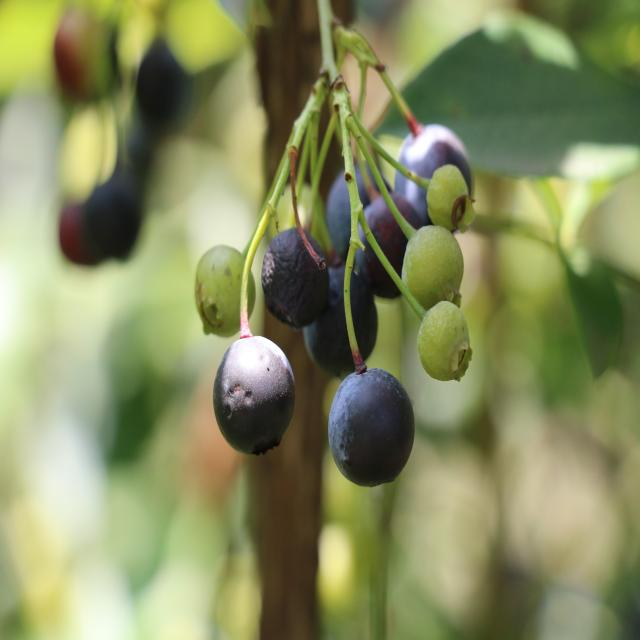blueberry: (210, 332, 298, 460), (328, 365, 416, 493), (396, 119, 474, 236), (354, 193, 424, 303), (261, 224, 331, 332), (135, 34, 199, 128), (327, 165, 388, 259), (83, 171, 143, 265)
blueberry-unripe: (397, 222, 465, 312), (192, 242, 258, 334), (416, 300, 472, 382), (425, 164, 471, 232)
